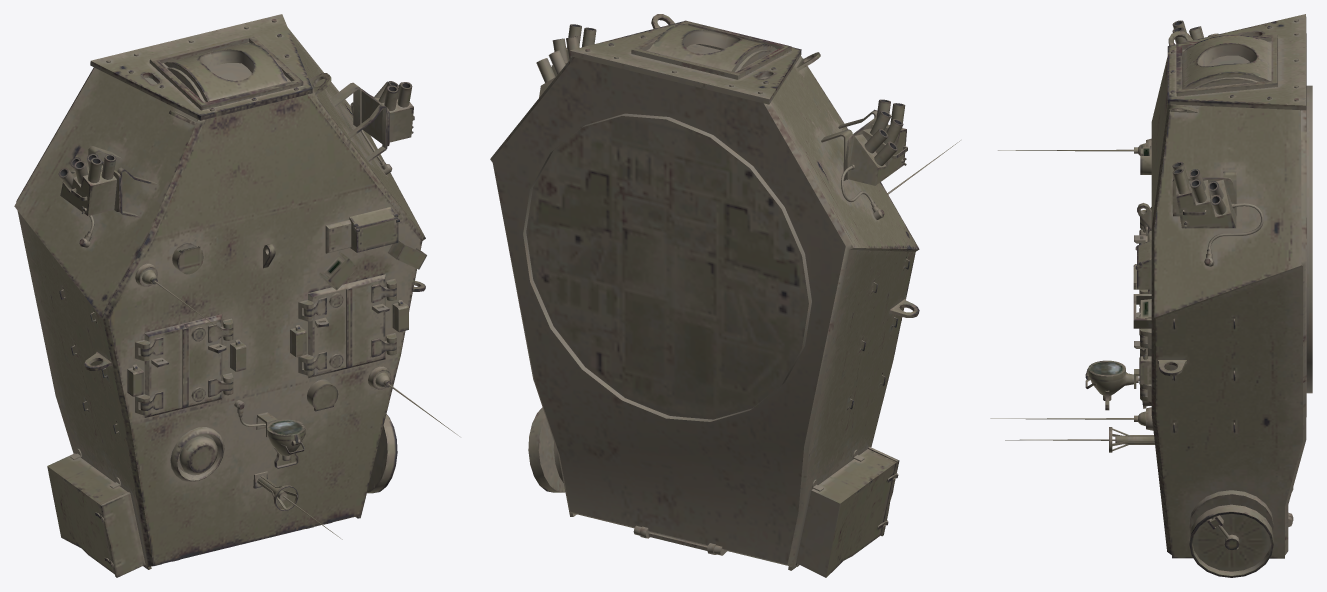
The model's file is Turret_01.glb.
3 renders of one model, left to right at view 1: azimuth 30°, elevation 25°; view 2: azimuth 150°, elevation 25°; view 3: azimuth 270°, elevation 25°, orthographic. The views are drawn at different scales.
Visible parts, largest first — view 1: set_0_group_0; view 2: set_0_group_0; view 3: set_0_group_0.
Boxes of the visible parts, left/top/right/bottom form: set_0_group_0: left=14, top=14, right=459, bottom=577; set_0_group_0: left=490, top=14, right=960, bottom=577; set_0_group_0: left=990, top=14, right=1312, bottom=577.
Bounding box in the file's own units: 2.22 × 2.96 × 1.82.
1 material, 1 textured.
